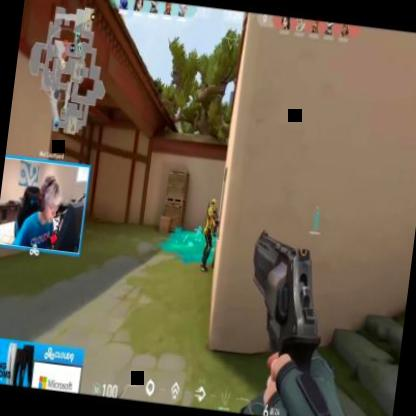enemy: (196, 196, 219, 272), (210, 204, 219, 238)
enemy_head: (210, 198, 215, 208), (214, 206, 218, 212)
